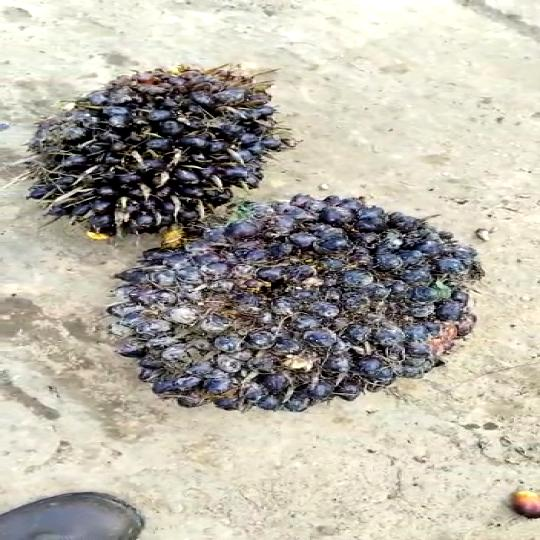mentah: (119, 192, 501, 418), (32, 60, 305, 252)
